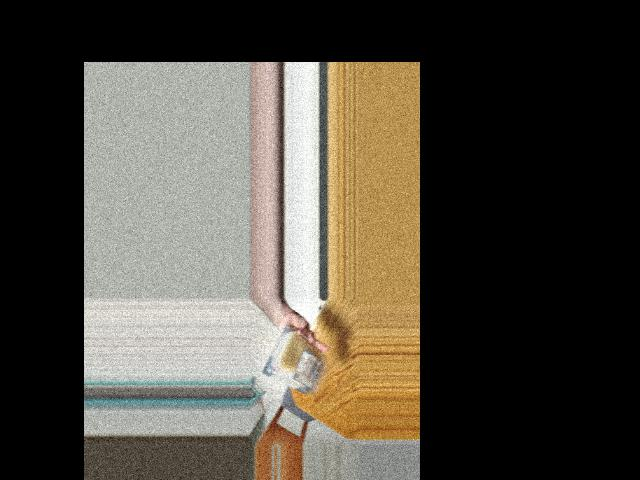cheese: (274, 331, 323, 391)
